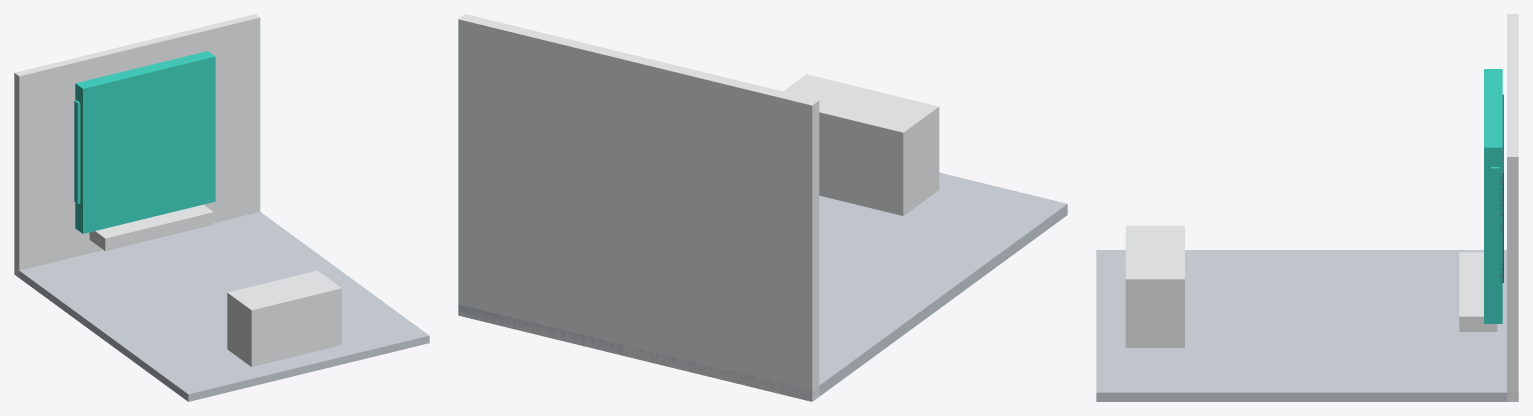
3 views of the same model, side by side, from view 1: azimuth 30°, elevation 25°; view 2: azimuth 150°, elevation 25°; view 3: azimuth 270°, elevation 25° (orthographic). The views are drawn at different scales.
Visible parts, largest first — view 1: Exhibition Booth Concept; view 2: Exhibition Booth Concept; view 3: Exhibition Booth Concept.
Part boxes in pixels (bbox=[...]): Exhibition Booth Concept: bbox=[14, 14, 429, 401]; Exhibition Booth Concept: bbox=[458, 14, 1067, 401]; Exhibition Booth Concept: bbox=[1096, 14, 1518, 401].
Bounding box in the file's own units: 4 × 3.2 × 5.
